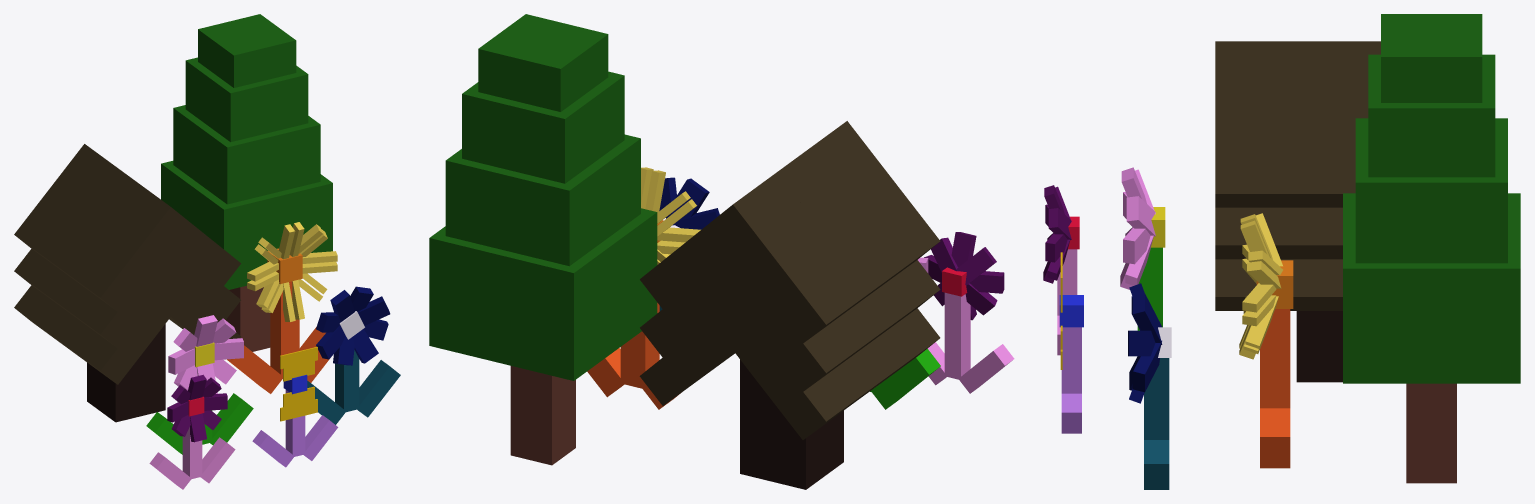
The model's file is PlantParty.fbx.
3 views of the same model, side by side, from view 1: azimuth 30°, elevation 25°; view 2: azimuth 150°, elevation 25°; view 3: azimuth 270°, elevation 25° (orthographic). The views are drawn at different scales.
Visible parts, largest first — view 1: Cube.033, Cube.027, Cube.028, Cube.026, Cube.032, Cube.030, Cube.034, Cube.025, Cube.036, Cube.035, Cube.029, Cube.056 (+29 smaller); view 2: Cube.028, Cube.033, Cube.027, Cube.026, Cube.030, Cube.034, Cube.032, Cube.025, Cube.036, Cube.029, Cube.031, Cube.035 (+8 smaller); view 3: Cube.028, Cube.034, Cube.027, Cube.026, Cube.025, Cube.033, Cube.035, Cube.029, Cube.031, Cube.036, Cube.056, Cube.055 (+21 smaller).
Part boxes in pixels (x1=…): Cube.033: x1=14, y1=166, x2=186, y2=311; Cube.027: x1=173, y1=105, x2=320, y2=204; Cube.028: x1=161, y1=161, x2=332, y2=289; Cube.026: x1=185, y1=57, x2=308, y2=142; Cube.032: x1=14, y1=244, x2=188, y2=348; Cube.030: x1=14, y1=280, x2=187, y2=384; Cube.034: x1=67, y1=144, x2=240, y2=285; Cube.025: x1=198, y1=14, x2=296, y2=87; Cube.036: x1=87, y1=324, x2=165, y2=422; Cube.035: x1=153, y1=244, x2=240, y2=319; Cube.029: x1=226, y1=285, x2=270, y2=351; Cube.056: x1=270, y1=281, x2=299, y2=378; Cube.028: x1=429, y1=208, x2=657, y2=380; Cube.033: x1=709, y1=151, x2=940, y2=343; Cube.027: x1=445, y1=134, x2=640, y2=266; Cube.026: x1=462, y1=71, x2=624, y2=183; Cube.030: x1=710, y1=302, x2=940, y2=439; Cube.034: x1=640, y1=121, x2=870, y2=308; Cube.032: x1=710, y1=257, x2=940, y2=391; Cube.025: x1=478, y1=14, x2=608, y2=111; Cube.036: x1=740, y1=359, x2=843, y2=489; Cube.029: x1=510, y1=366, x2=575, y2=465; Cube.031: x1=639, y1=301, x2=755, y2=405; Cube.035: x1=640, y1=253, x2=755, y2=357; Cube.028: x1=1343, y1=193, x2=1520, y2=383; Cube.034: x1=1215, y1=79, x2=1368, y2=207; Cube.027: x1=1355, y1=118, x2=1507, y2=263; Cube.026: x1=1368, y1=54, x2=1495, y2=177; Cube.025: x1=1381, y1=14, x2=1482, y2=102; Cube.033: x1=1215, y1=41, x2=1380, y2=79; Cube.035: x1=1215, y1=207, x2=1342, y2=259; Cube.029: x1=1406, y1=383, x2=1456, y2=483; Cube.031: x1=1215, y1=259, x2=1342, y2=310; Cube.036: x1=1296, y1=311, x2=1342, y2=382; Cube.056: x1=1260, y1=309, x2=1290, y2=408; Cube.055: x1=1260, y1=408, x2=1290, y2=468.
Size of the model in its own units: 178 by 193 by 188.
